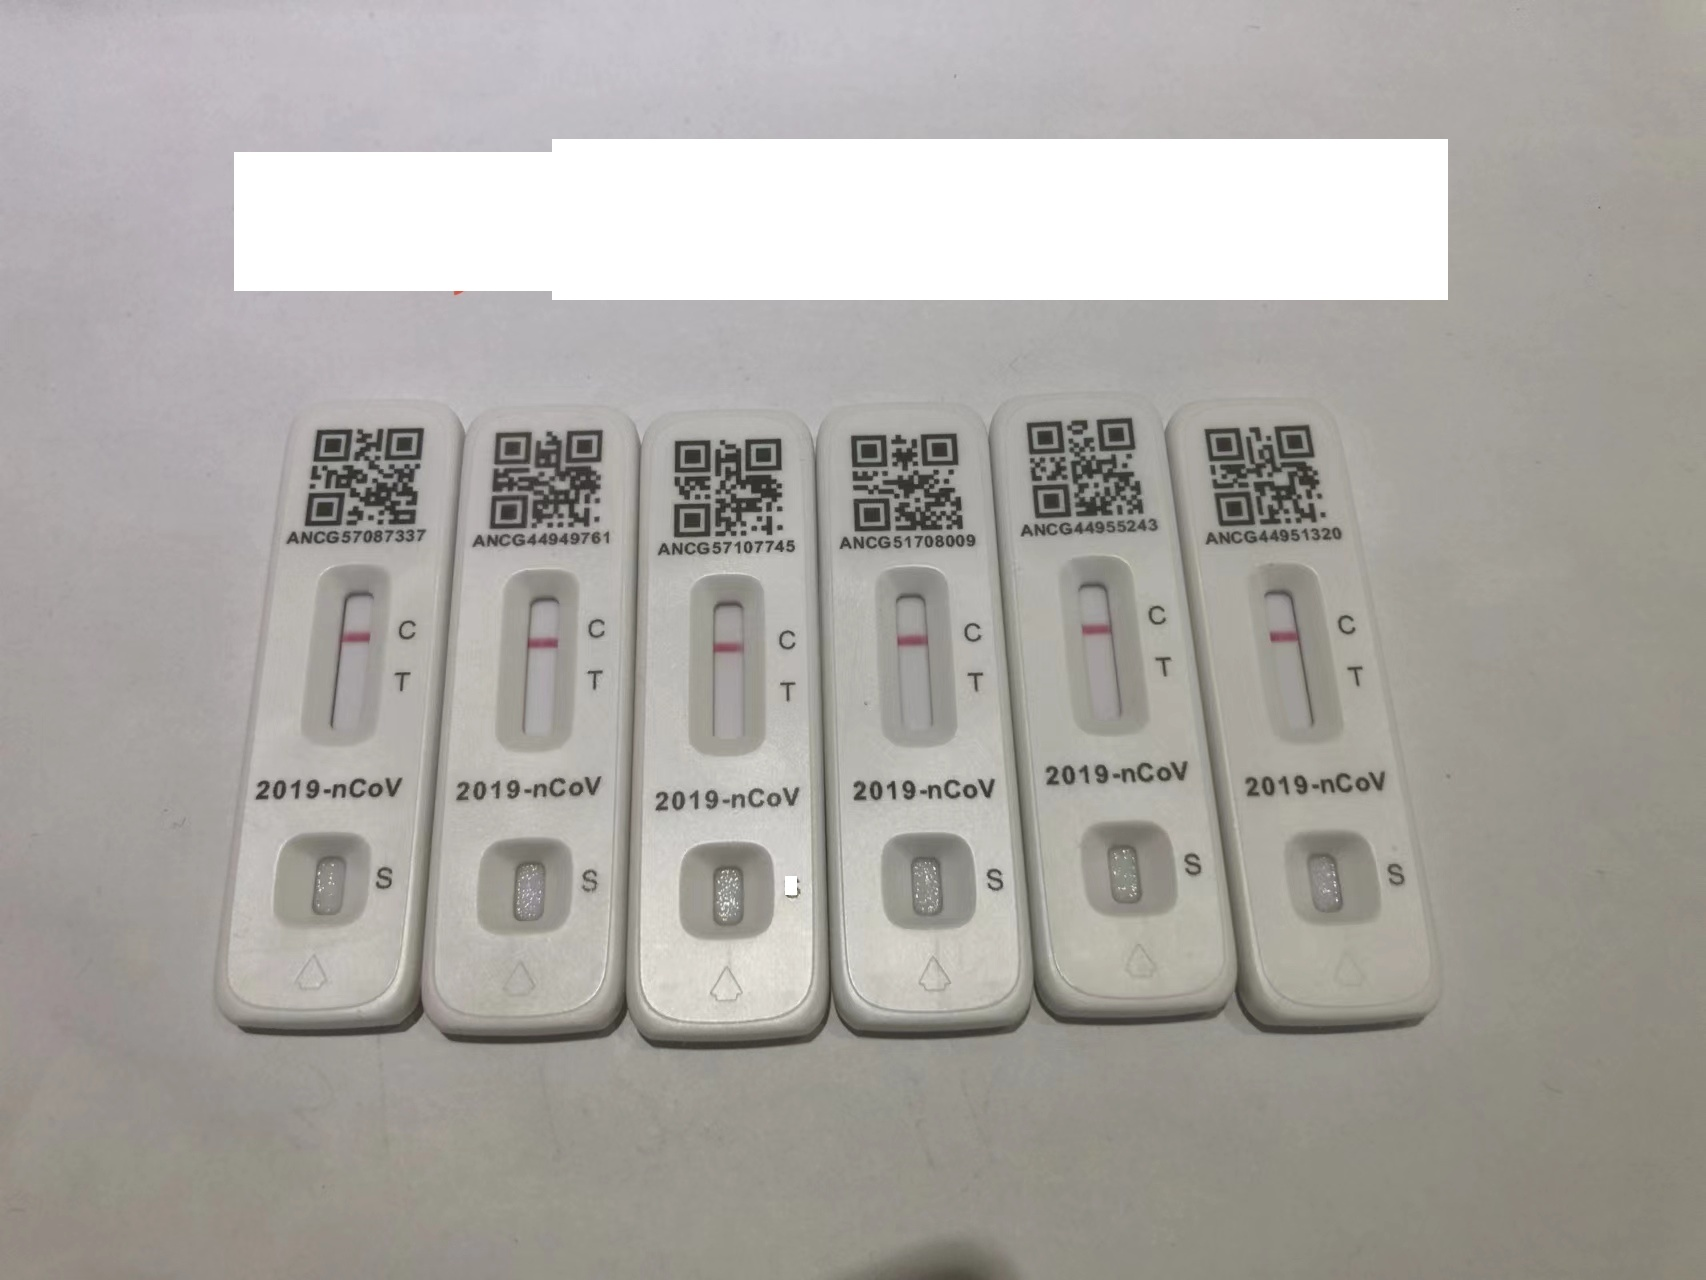negative: (1252, 565, 1340, 739), (1061, 558, 1147, 734), (304, 567, 389, 739), (690, 571, 765, 758), (878, 563, 956, 742), (497, 565, 573, 749)
